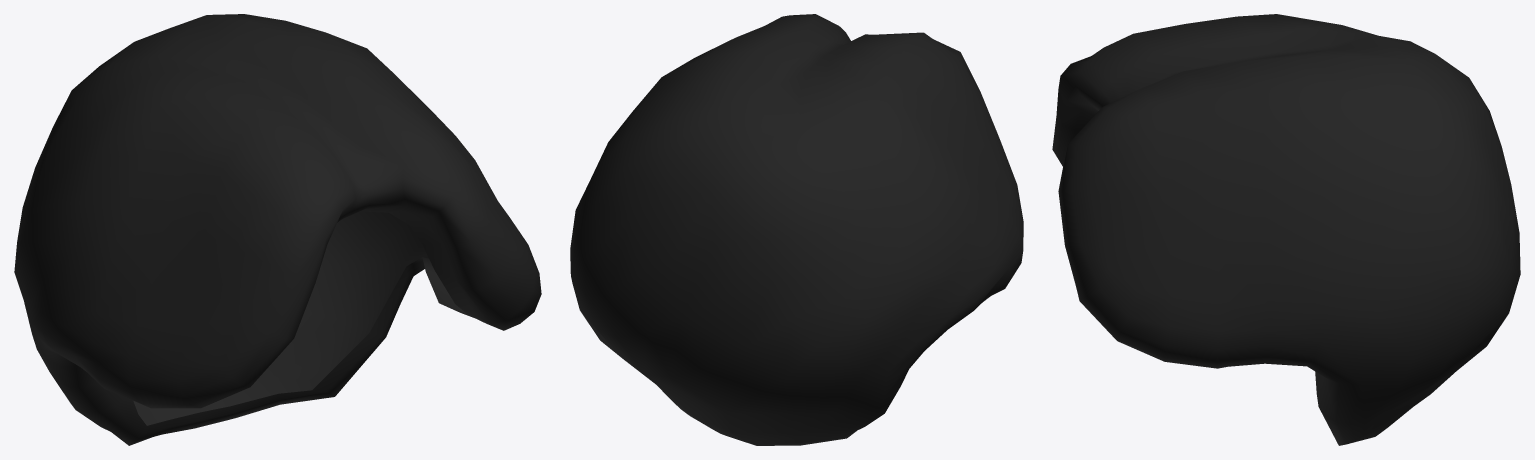
The model's file is Hair_010.glb.
The picture shows the model from 3 angles, left to right: view 1: azimuth 30°, elevation 25°; view 2: azimuth 150°, elevation 25°; view 3: azimuth 270°, elevation 25°; orthographic projection. The views are drawn at different scales.
Parts seen in each view (by area): view 1: Hair_010; view 2: Hair_010; view 3: Hair_010.
Boxes of the visible parts, x1,y1,x2,y2 form: Hair_010: (14, 14, 541, 445); Hair_010: (570, 14, 1023, 445); Hair_010: (1052, 14, 1520, 445).
Bounding box in the file's own units: 0.495 × 0.4531 × 0.5104.
1 material, 1 textured.
